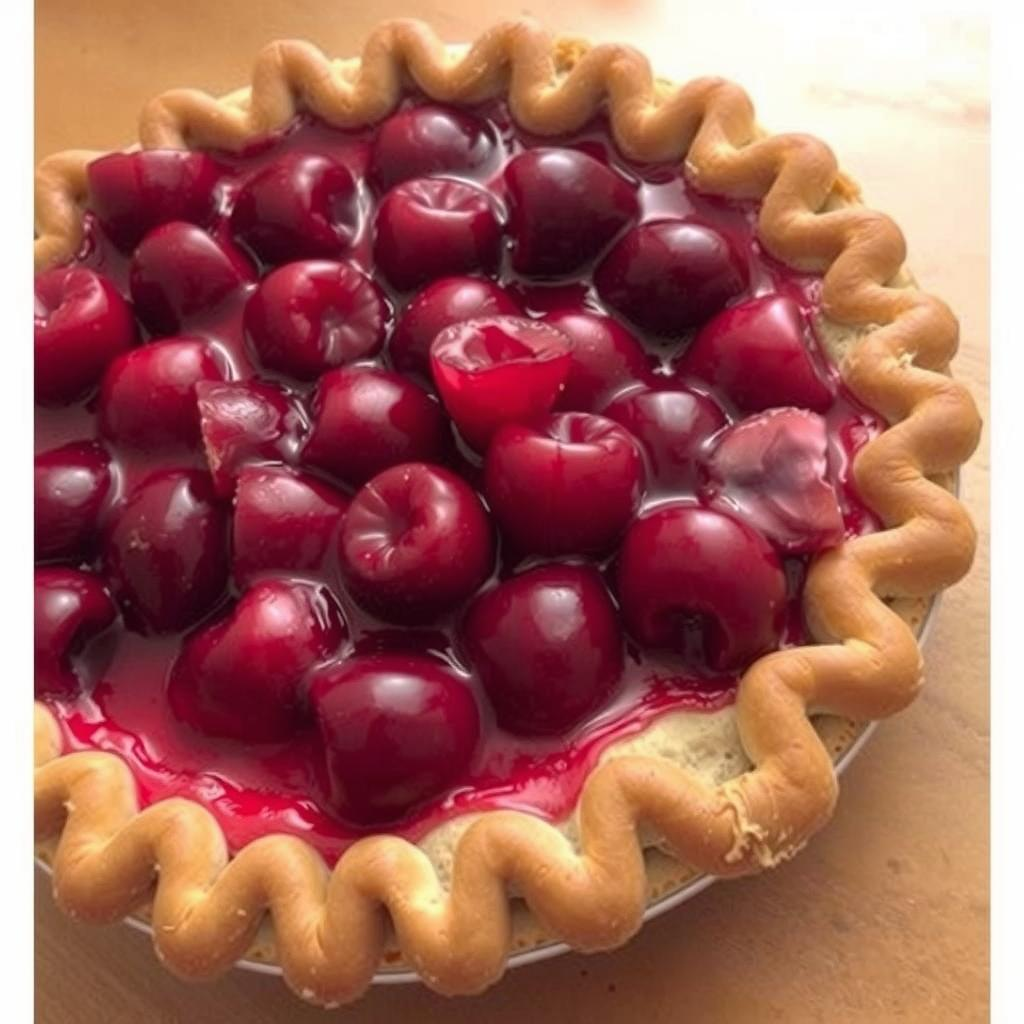pie: (23, 23, 983, 1003)
